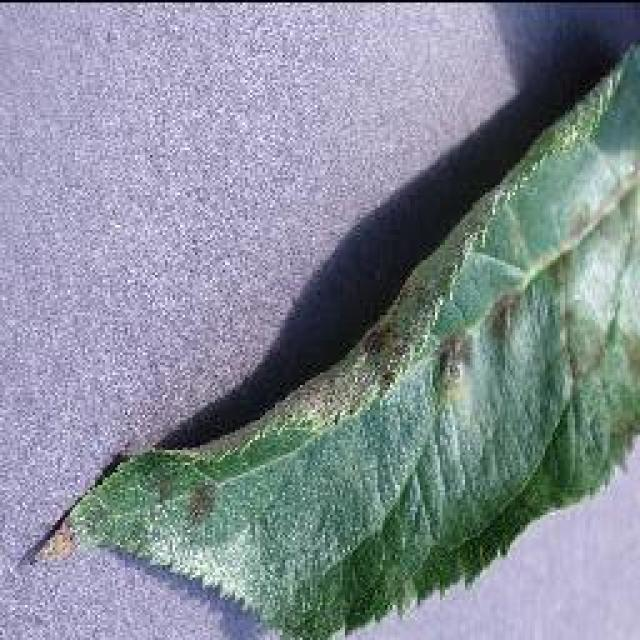apple scab disease: (48, 25, 638, 637)
